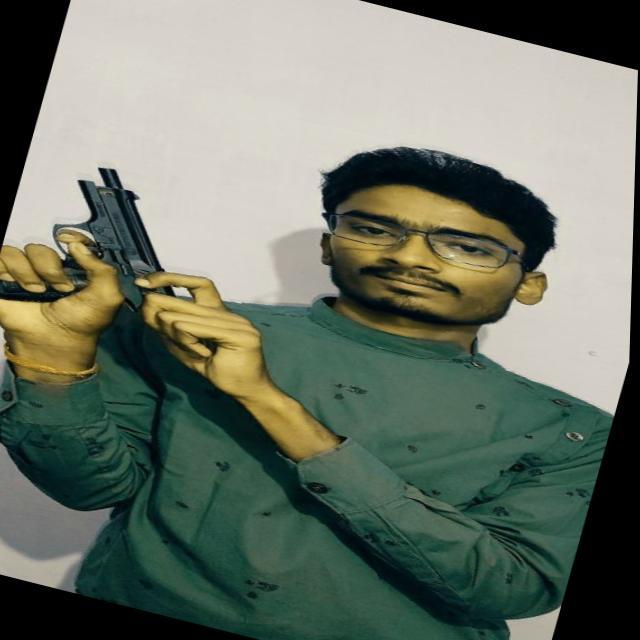weapon: (0, 142, 302, 379)
